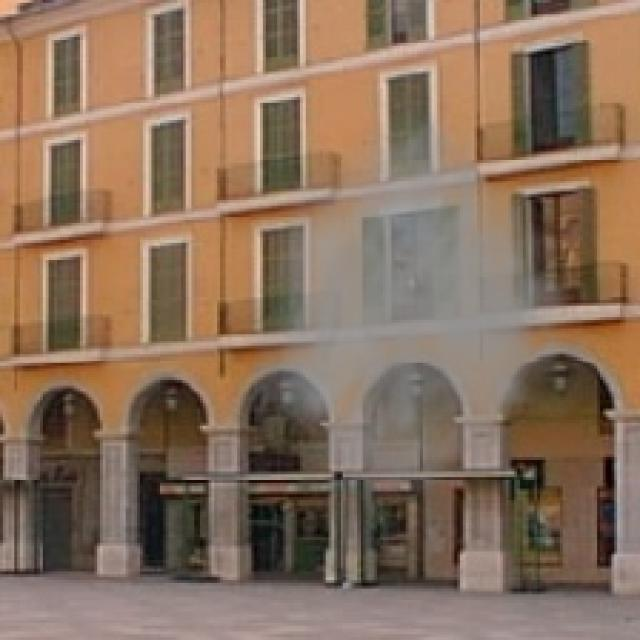smoke: (254, 100, 606, 520)
